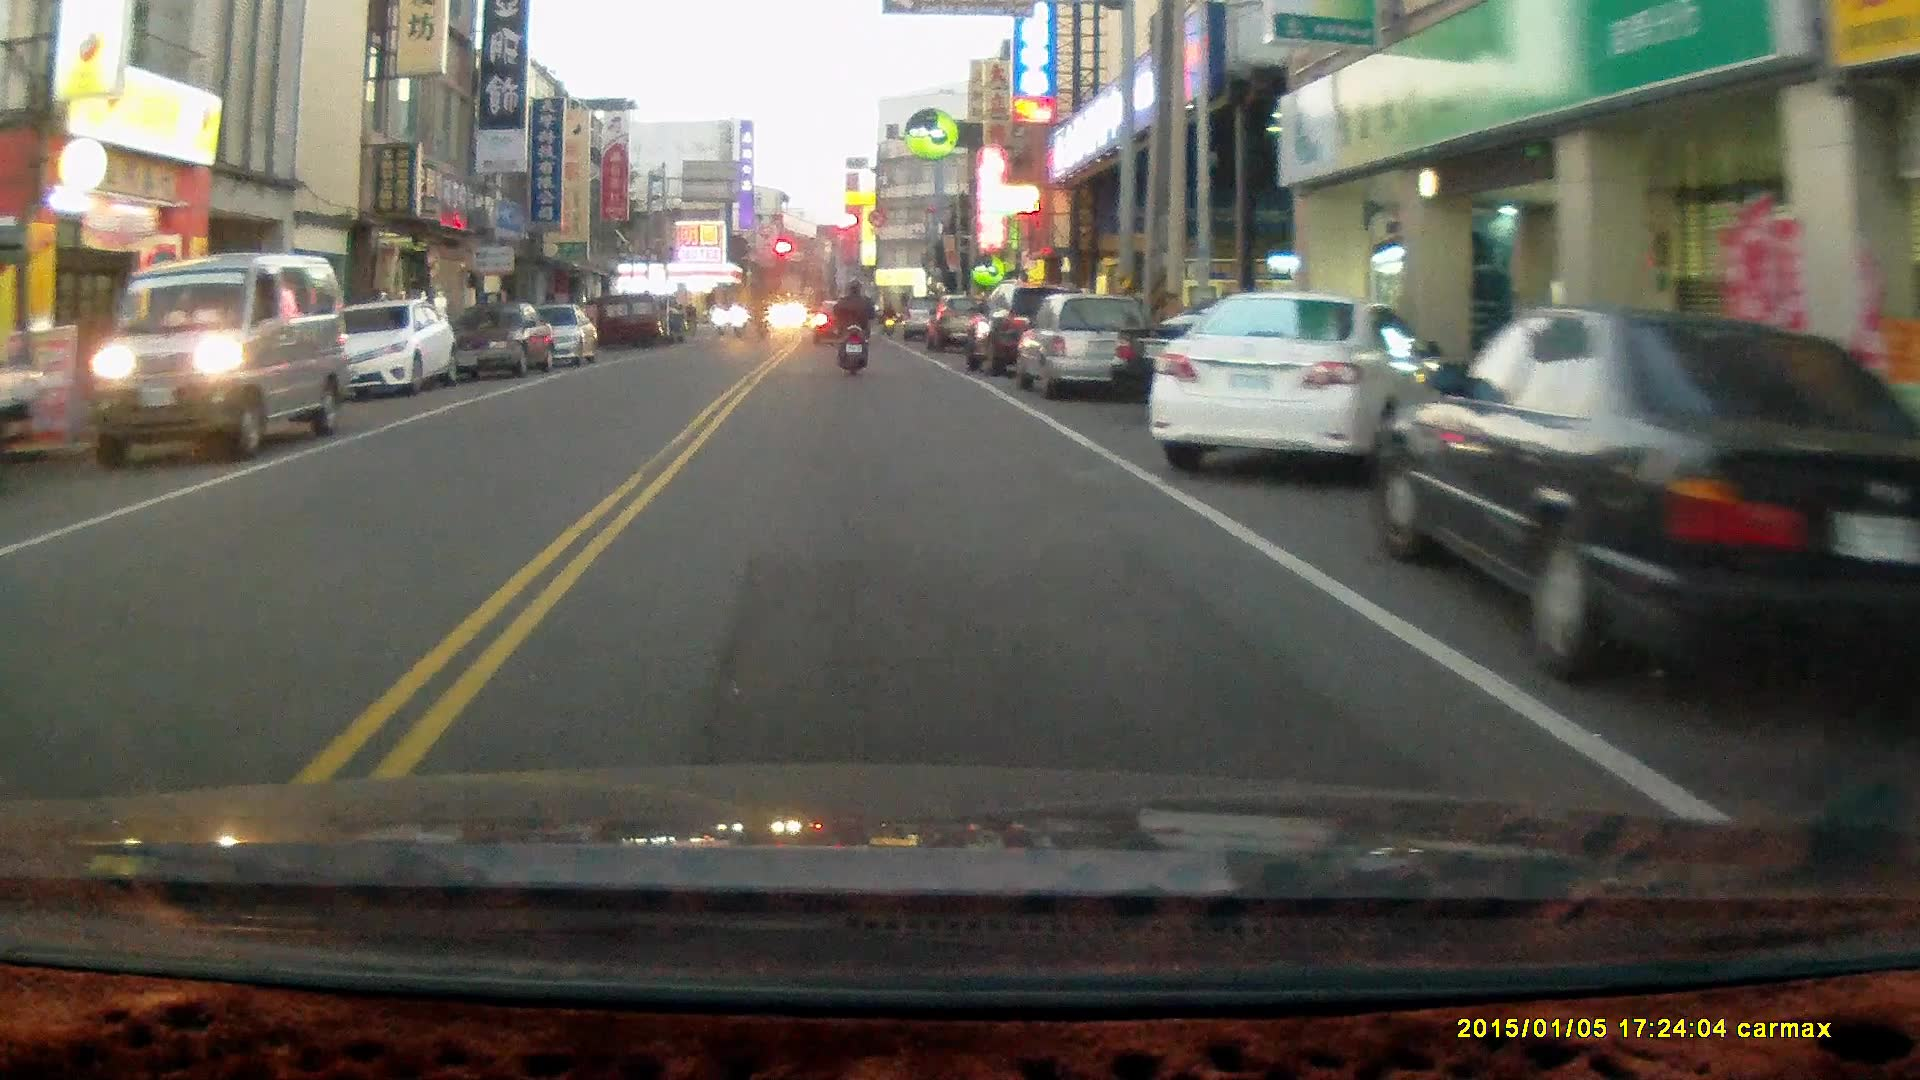rider: (831, 277, 876, 379)
vehicle: (1371, 307, 1920, 697), (1147, 290, 1436, 484), (92, 250, 350, 462), (1014, 293, 1156, 394), (321, 296, 458, 397), (443, 299, 559, 385), (510, 302, 598, 375)
